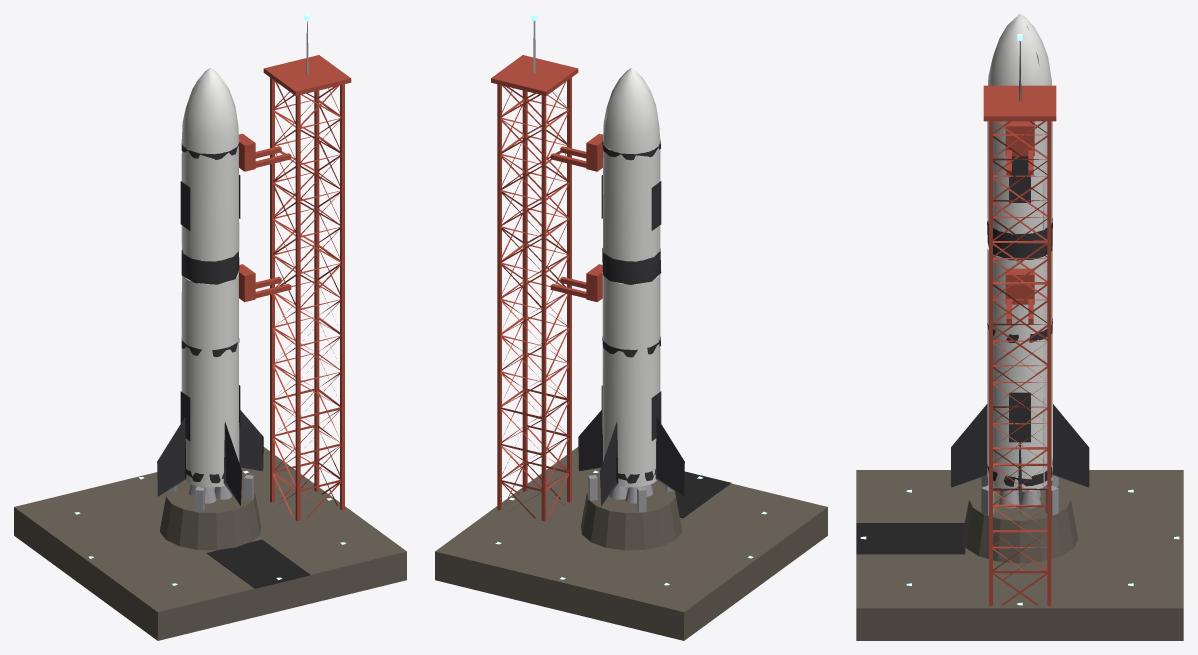
File: rocket-lod1.glb
3 views of the same model, side by side, from view 1: azimuth 30°, elevation 25°; view 2: azimuth 150°, elevation 25°; view 3: azimuth 270°, elevation 25° (orthographic). The views are drawn at different scales.
Visible parts, largest first — view 1: rocket.001; view 2: rocket.001; view 3: rocket.001.
Part boxes in pixels (x1=…): rocket.001: x1=14, y1=14, x2=406, y2=640; rocket.001: x1=435, y1=14, x2=827, y2=640; rocket.001: x1=856, y1=14, x2=1183, y2=640.
Bounding box in the file's own units: 17.99 × 35.79 × 17.99.
